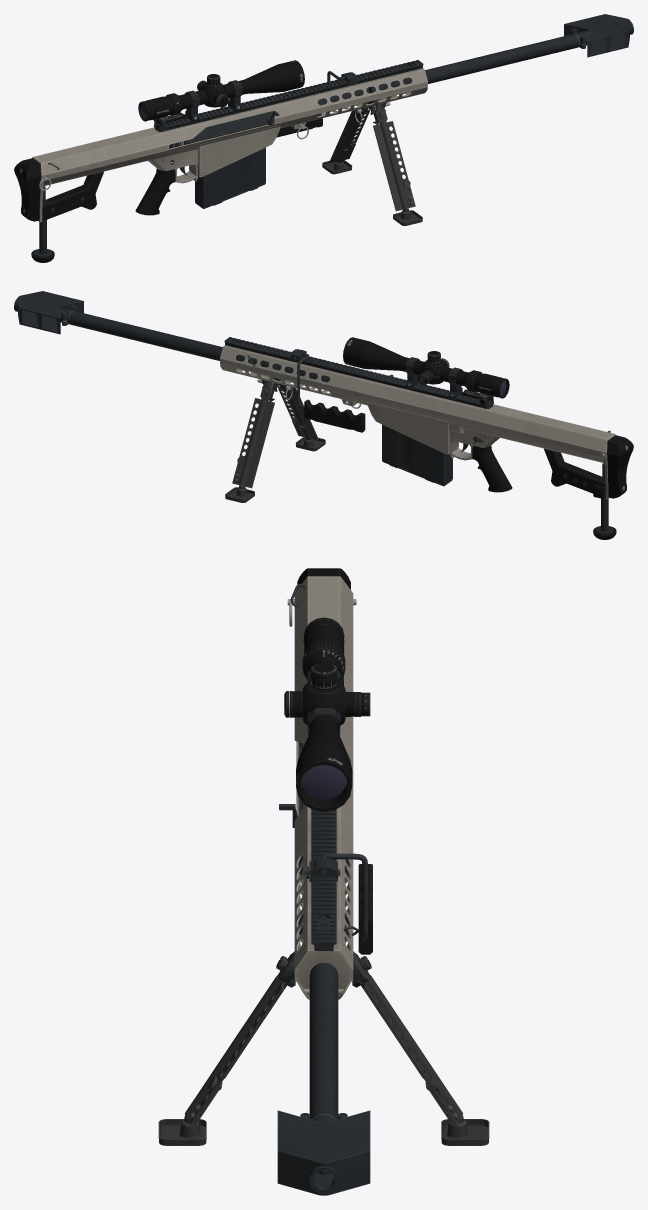
File: barrett.c510b3ce73.glb
3 views of the same model, one above another, from view 1: azimuth 30°, elevation 25°; view 2: azimuth 150°, elevation 25°; view 3: azimuth 270°, elevation 25° (orthographic). The views are drawn at different scales.
Parts seen in each view (by area): view 1: base, base_2, base_3, scope, mag, bipodR, bipodL, bolt; view 2: base, base_2, base_3, scope, mag, bipodL, bipodR; view 3: base_3, base, scope, base_2, bipodR, bipodL.
Boxes of the visible parts, box(x1,y1,x2,y2) form: base: box(32, 68, 427, 222); base_2: box(14, 60, 423, 262); base_3: box(317, 14, 633, 105); scope: box(138, 60, 304, 122); mag: box(195, 147, 265, 208); bipodR: box(373, 104, 422, 225); bipodL: box(322, 110, 370, 174); bolt: box(168, 111, 279, 148); base: box(220, 345, 615, 499); base_2: box(224, 337, 633, 539); base_3: box(14, 291, 330, 382); scope: box(343, 337, 509, 399); mag: box(382, 424, 452, 486); bipodL: box(225, 381, 274, 502); bipodR: box(277, 387, 325, 451); base_3: box(277, 855, 370, 1195); base: box(294, 576, 353, 999); scope: box(284, 617, 370, 811); base_2: box(286, 568, 372, 987); bipodR: box(158, 951, 294, 1145); bipodL: box(353, 951, 489, 1145).
Bounding box in the file's own units: 1.47 × 0.3603 × 0.3449.
Materials: 5 (5 with a texture image).
